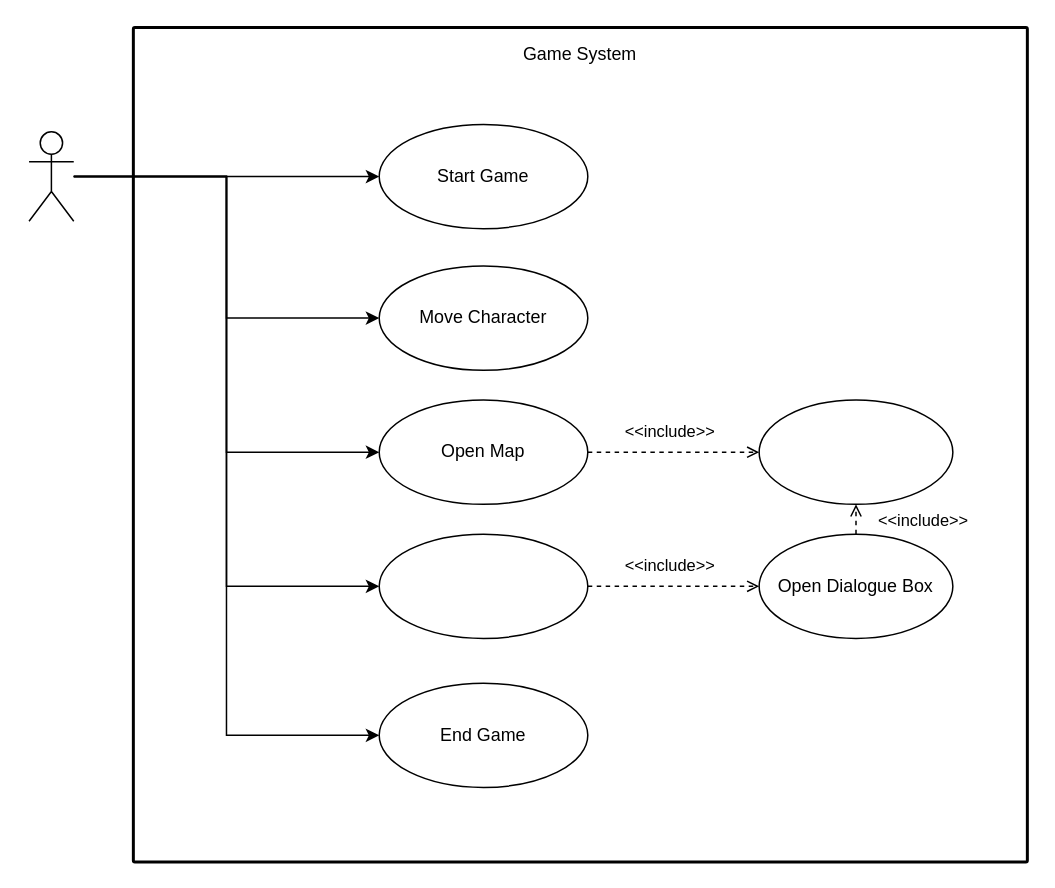
The diagram is 1055 pixels wide and 888 high, and some of its shapes have lost their labels. Here are the shapes that lost their labels. From the top down, the centre of each, then its label:
At (51,175): "Player".
At (855,451): "Close UI".
At (483,585): "Deliver Package".
